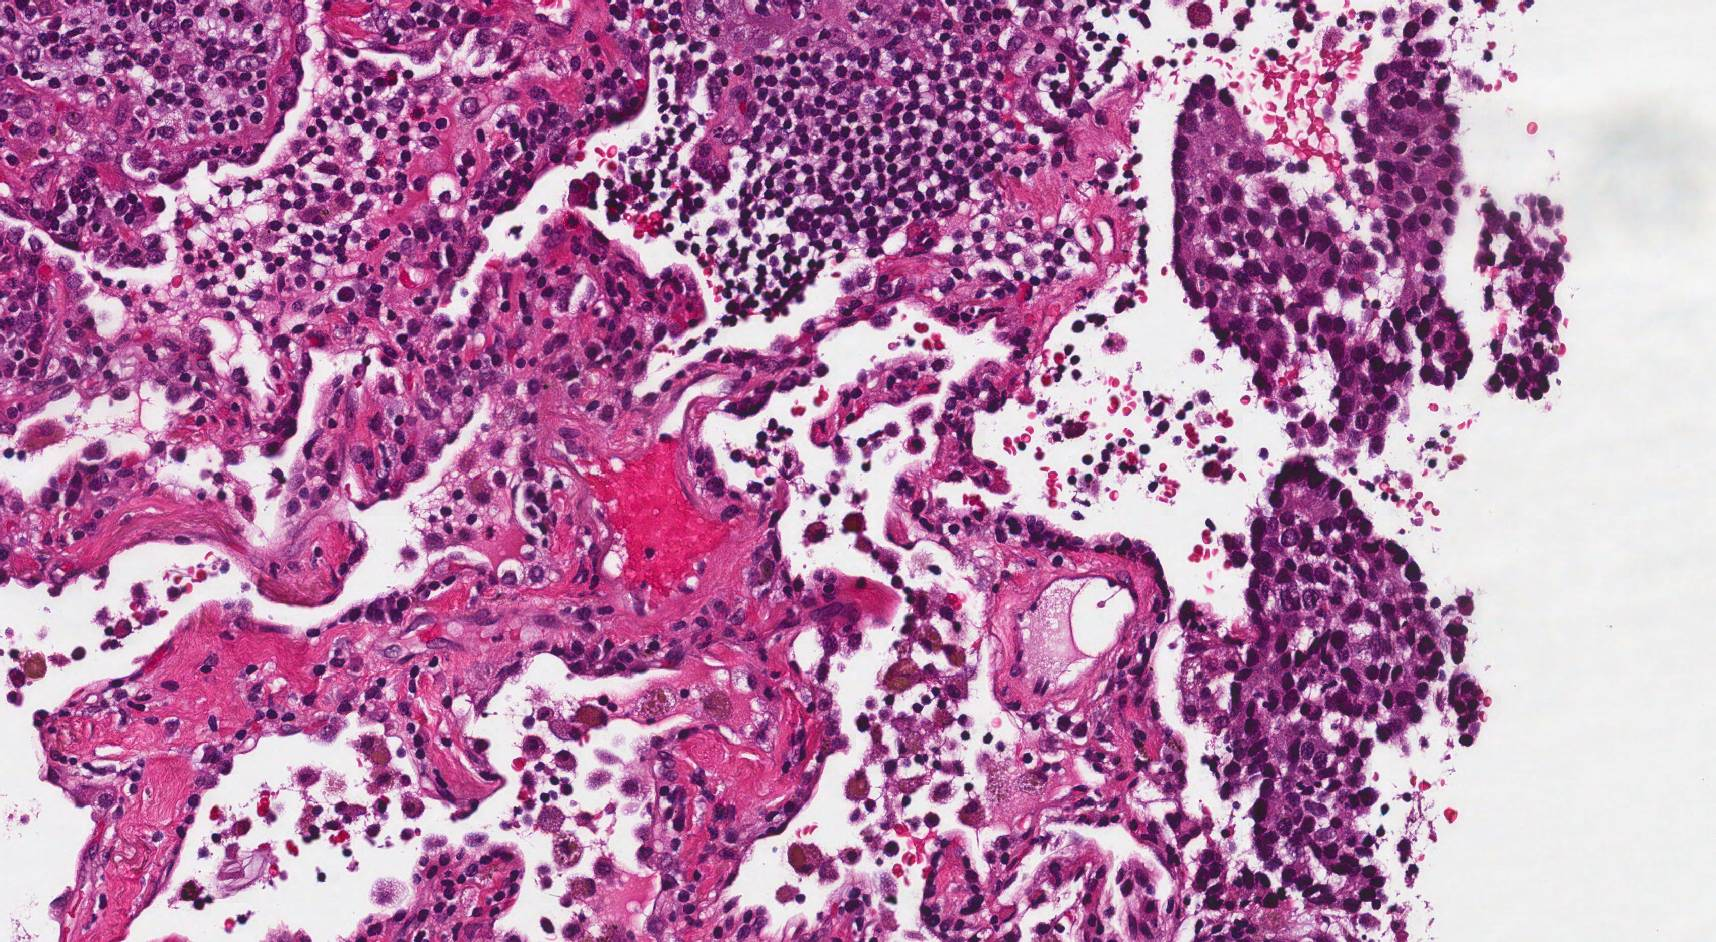stas: (1169, 12, 1472, 452), (1216, 452, 1486, 910), (1480, 193, 1571, 404)
